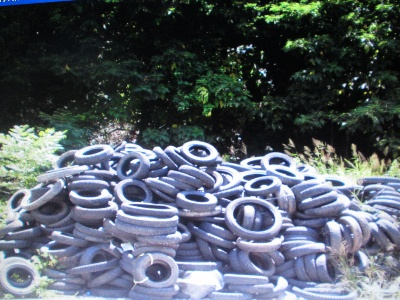tire: (226, 196, 284, 239), (131, 251, 179, 286), (1, 260, 41, 294), (119, 199, 178, 218), (113, 179, 155, 205), (113, 219, 176, 236), (116, 150, 151, 180), (179, 138, 218, 164), (68, 186, 112, 207), (116, 212, 179, 226), (265, 161, 302, 184), (176, 190, 218, 210), (74, 144, 112, 165), (340, 215, 362, 251), (74, 203, 117, 221), (66, 259, 120, 273), (65, 175, 109, 192), (51, 229, 88, 248), (235, 237, 284, 250), (324, 220, 341, 256), (285, 244, 330, 257), (73, 223, 114, 237), (224, 273, 268, 286), (8, 186, 30, 212), (317, 253, 335, 282), (289, 183, 336, 194), (5, 227, 45, 239), (304, 256, 319, 280), (294, 258, 306, 280)
